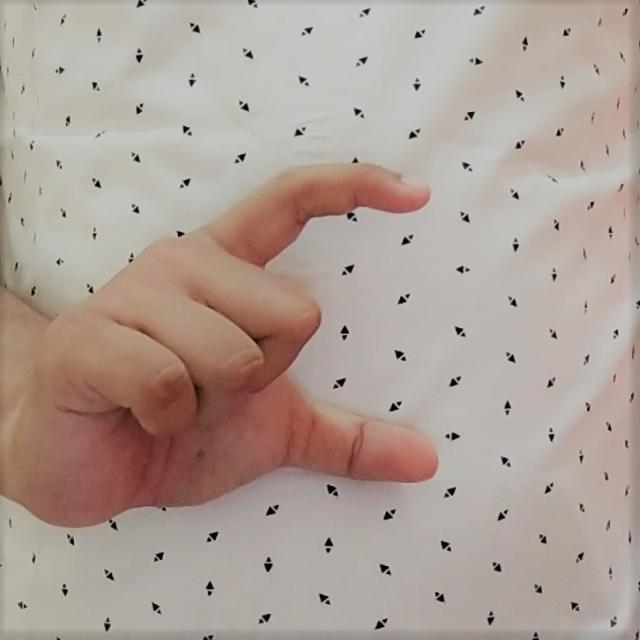C: (9, 153, 448, 536)
